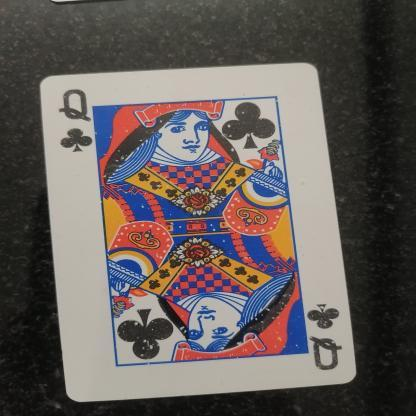QC: (302, 300, 352, 374), (46, 88, 95, 162)
